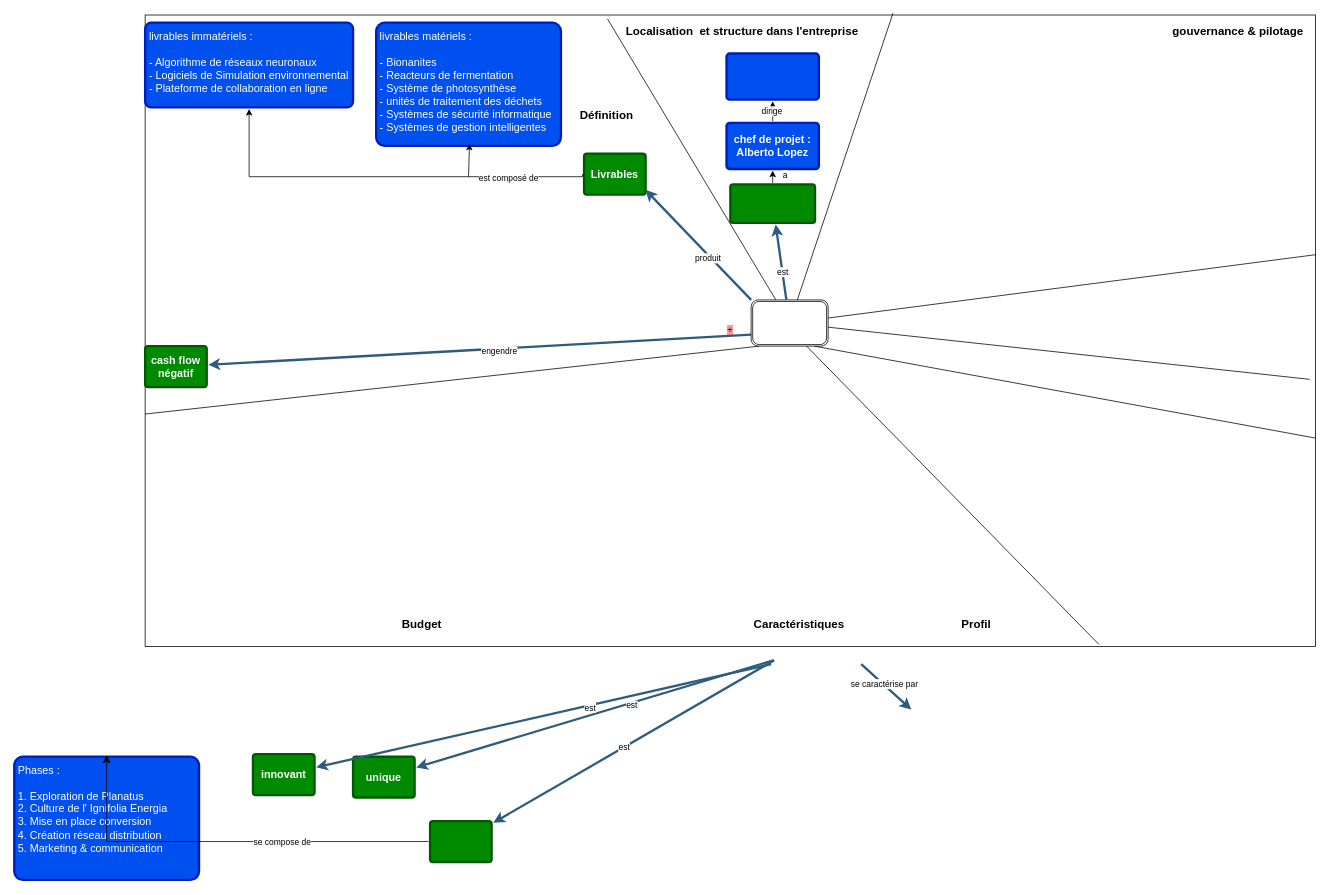
Image size: 1330x895. Some labels were removed from this diagram. The shapes that lost their labels are listed below. From the top down, each one's centre as x and y in pixels, then its label:
the point at 772,76: une équipe dédiée
the point at 772,203: un projet sorti
the point at 789,322: Concepts du projet BioFuel
the point at 460,841: temporaire : 15 ans
